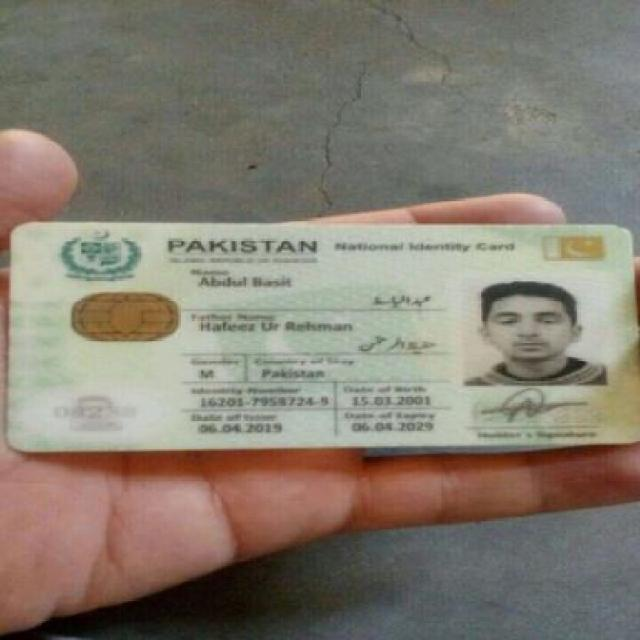Front: (6, 218, 632, 450)
